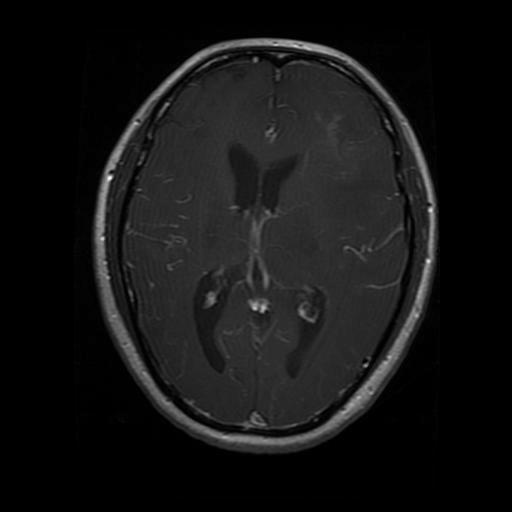Tumour-Glioma: (269, 207, 329, 278)
